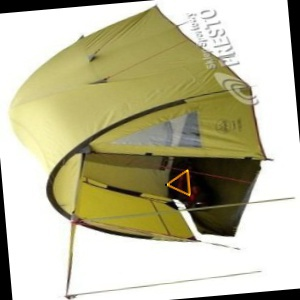triangle: (163, 165, 193, 199)
